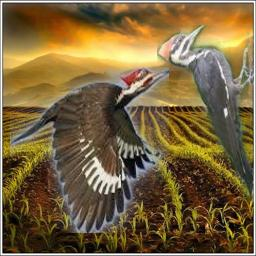Woodpecker: (10, 67, 169, 233), (157, 25, 254, 201)
